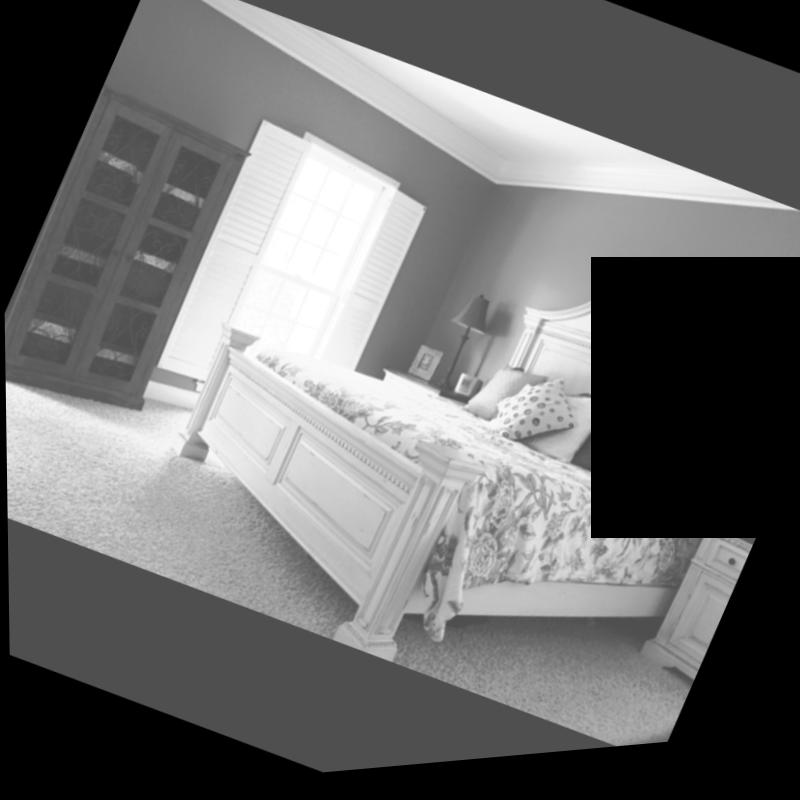pillow: (565, 402, 682, 514), (488, 364, 593, 474), (458, 356, 548, 446), (656, 448, 731, 535)
